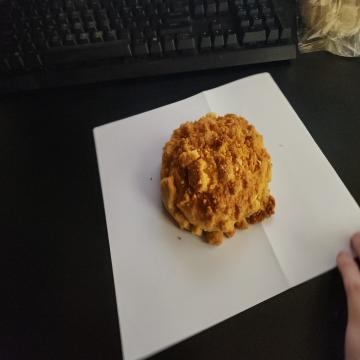soboru_bread: (161, 110, 274, 246)
